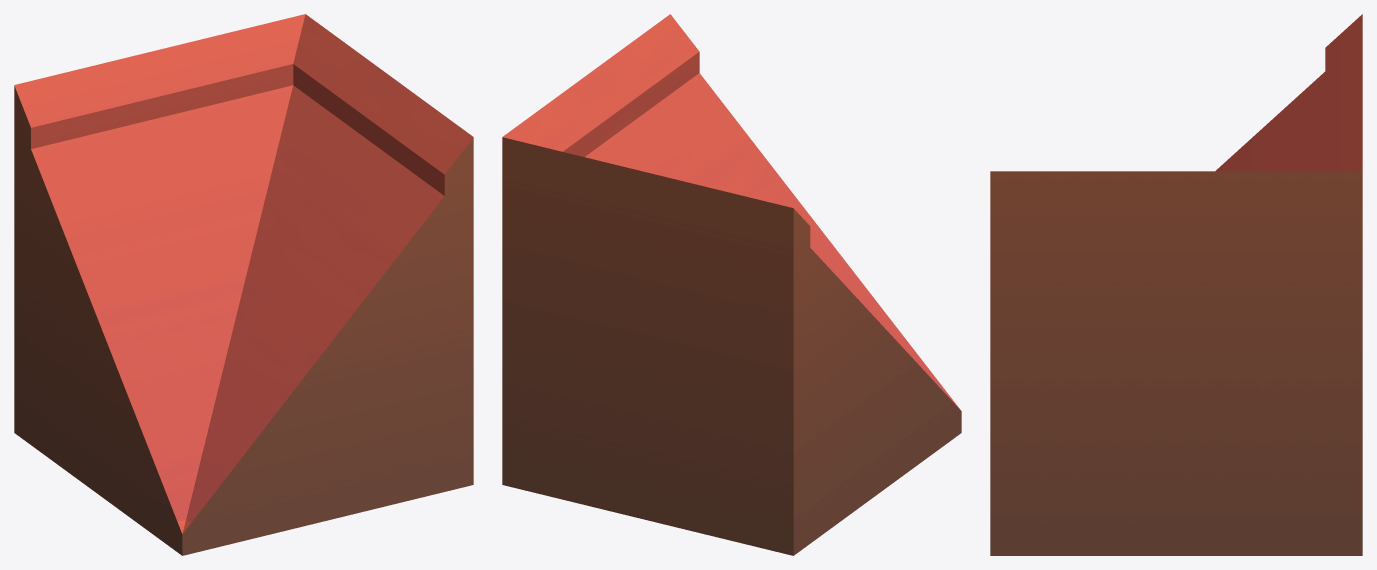
Rendered from roofHighCornerInner.fbx.
3 views of the same model, side by side, from view 1: azimuth 30°, elevation 25°; view 2: azimuth 150°, elevation 25°; view 3: azimuth 270°, elevation 25° (orthographic). The views are drawn at different scales.
Parts seen in each view (by area): view 1: roofHighCornerInner; view 2: roofHighCornerInner; view 3: roofHighCornerInner.
Boxes of the visible parts, x1,y1,x2,y2 form: roofHighCornerInner: [14, 14, 473, 555]; roofHighCornerInner: [502, 14, 961, 555]; roofHighCornerInner: [990, 14, 1362, 555].
Bounding box in the file's own units: 1 × 1 × 1.14.
